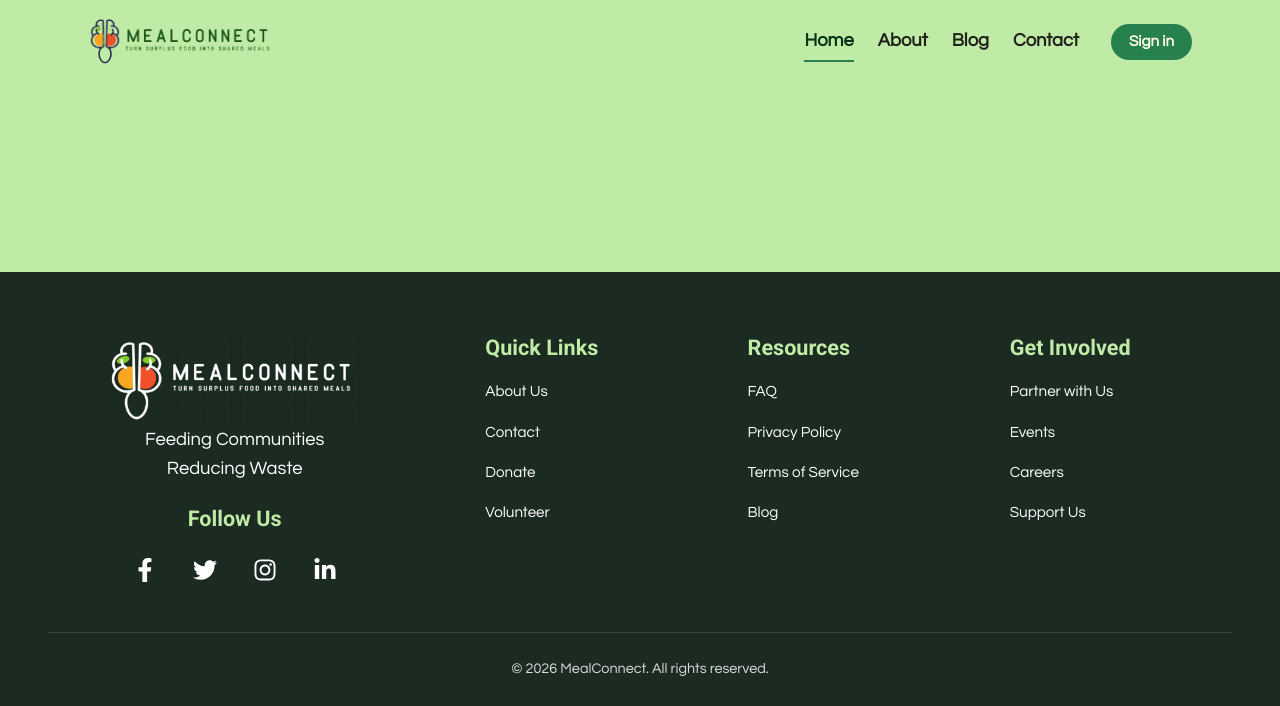
footer navigation › footer link Events resolves to a real page
(page scrolled)
Click the link "Events" at (1032, 432), box [1010,425,1055,440]
(page scrolled)
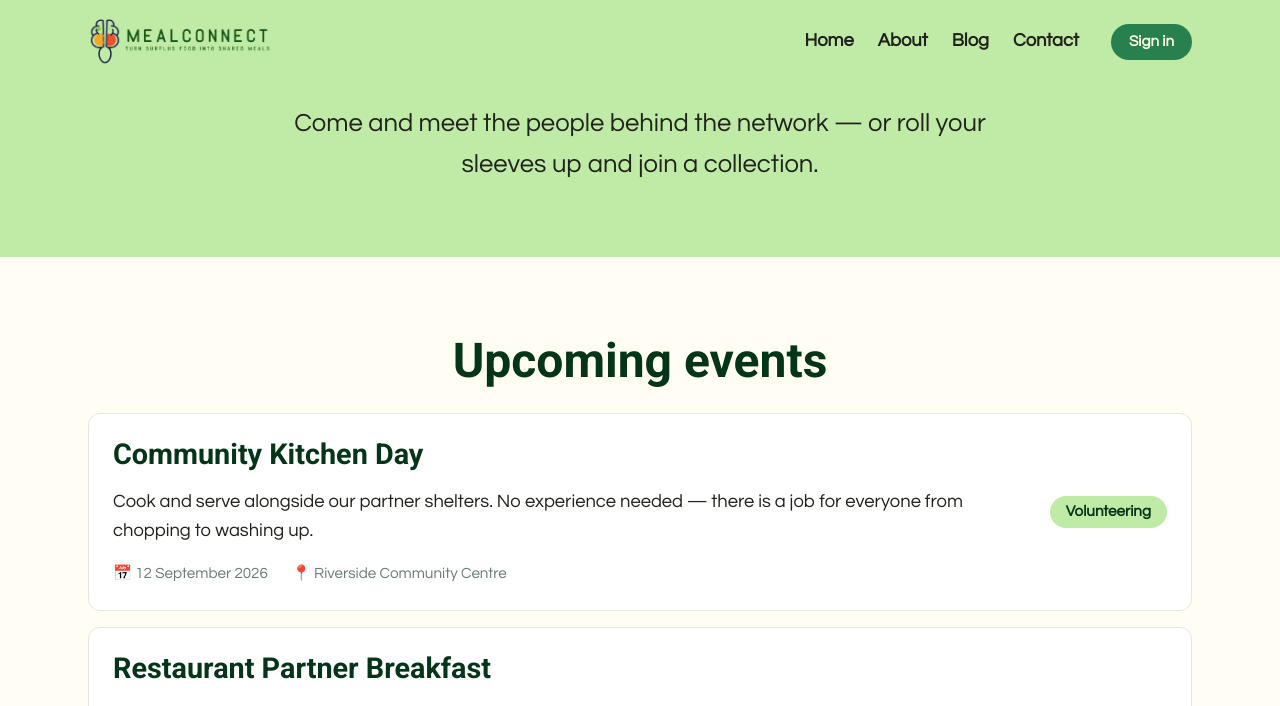
expect the heading "Upcoming events" is shown: met, box [453,332,827,389]
